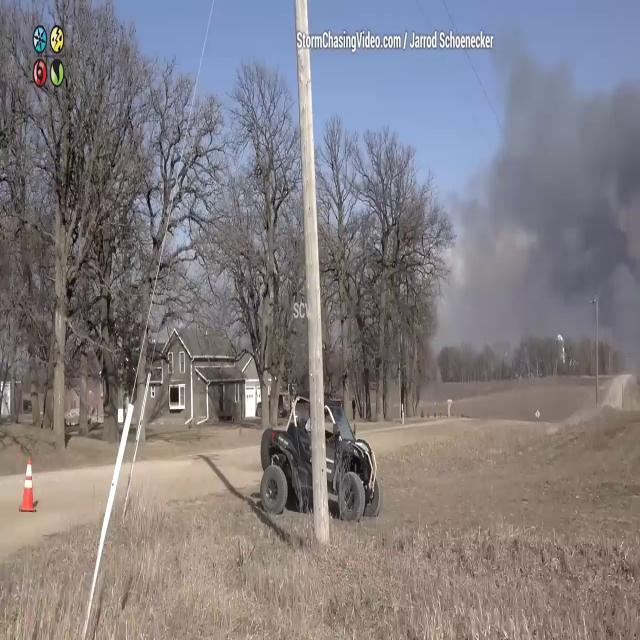Smoke: (444, 33, 640, 374)
